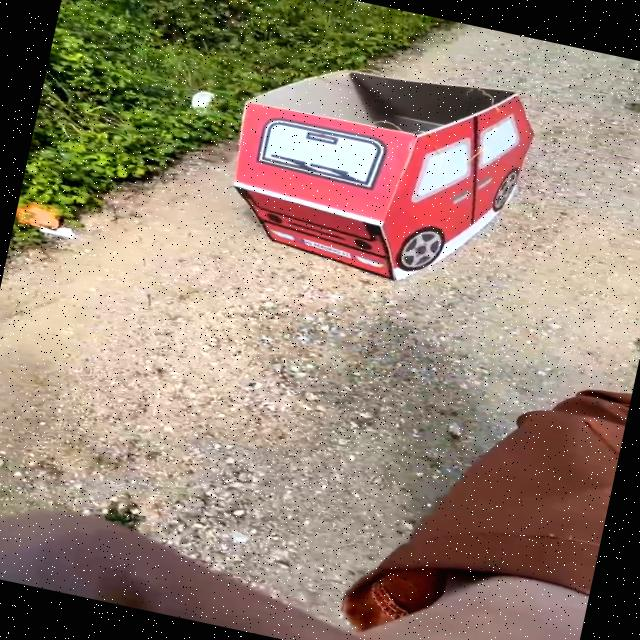red_car: (177, 23, 601, 328)
